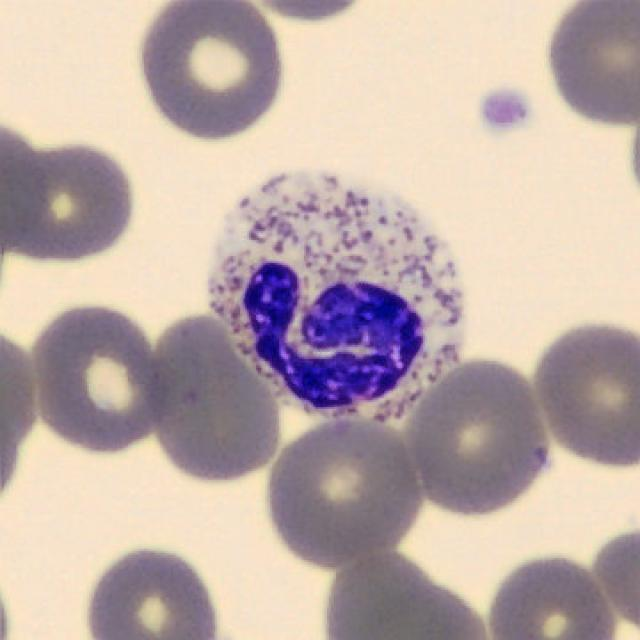Neutrofilo segmentado: (208, 169, 468, 430)
